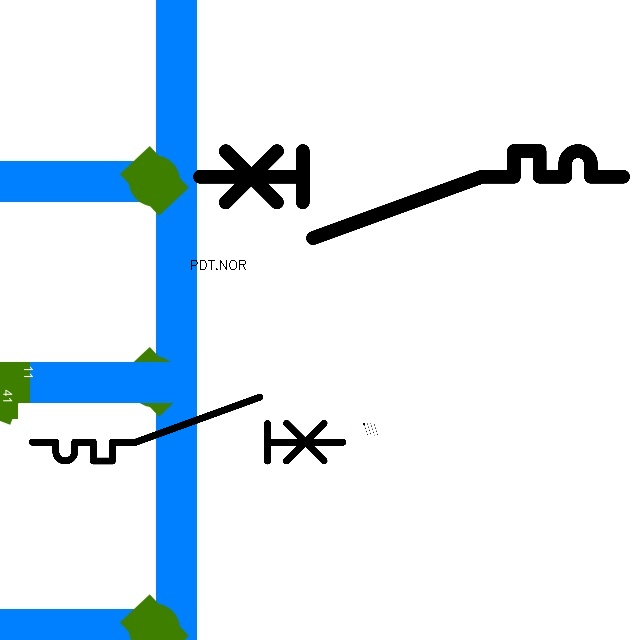interruptor_termomagnetico: (189, 140, 634, 249), (24, 389, 351, 469)
